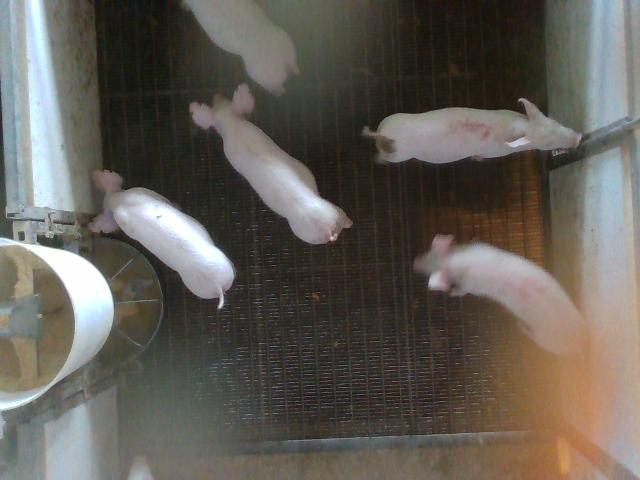pig-4: (414, 234, 584, 354)
pig-5: (362, 98, 581, 163)
